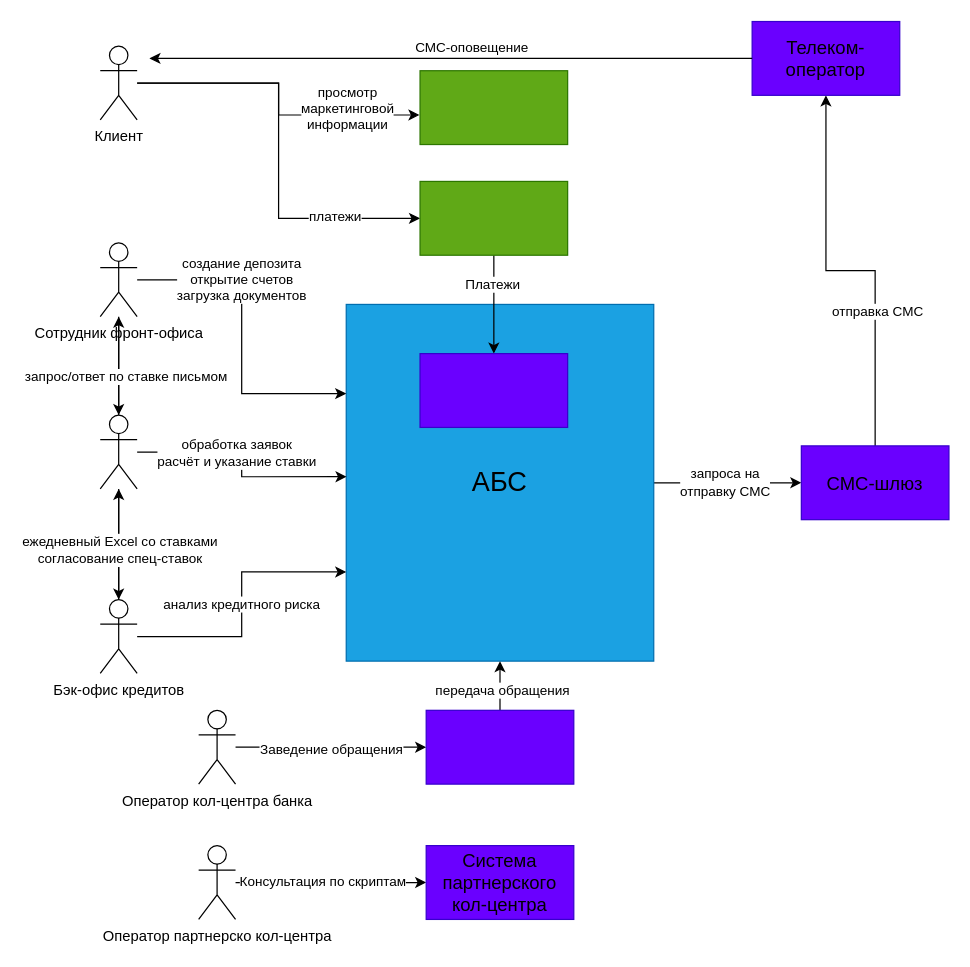
Some shapes in this 970 by 967 pixel diagram are drawn without their labels. The shapes that lost their labels are listed below. From the top down, each one's centre as x and y in pixels, then its label:
point 493,107: Сайт
point 493,217: Интернет-банк
point 493,389: БД АБС
point 118,451: Бэк-офис депозитов
point 499,746: Система кол-центра
